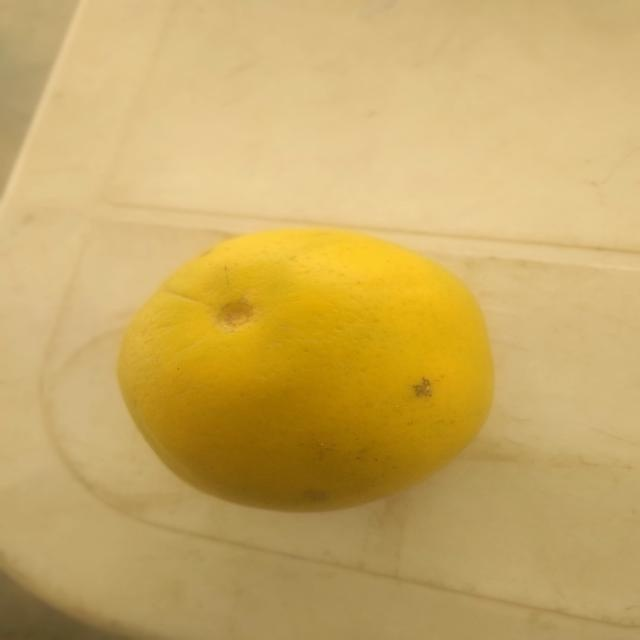agrume: (108, 223, 500, 521)
